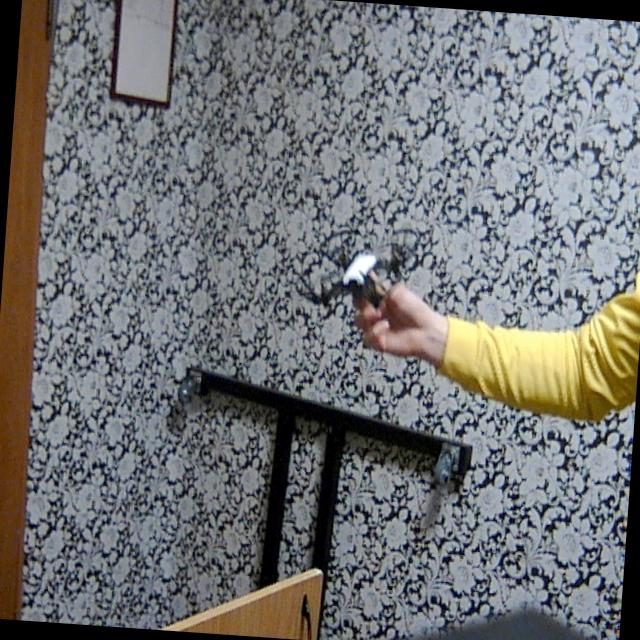drone: (280, 204, 438, 338)
